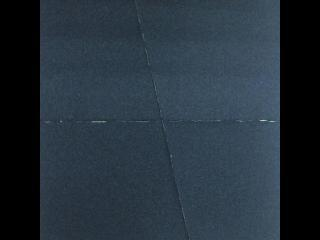crack: (130, 0, 193, 240), (39, 111, 281, 132)
